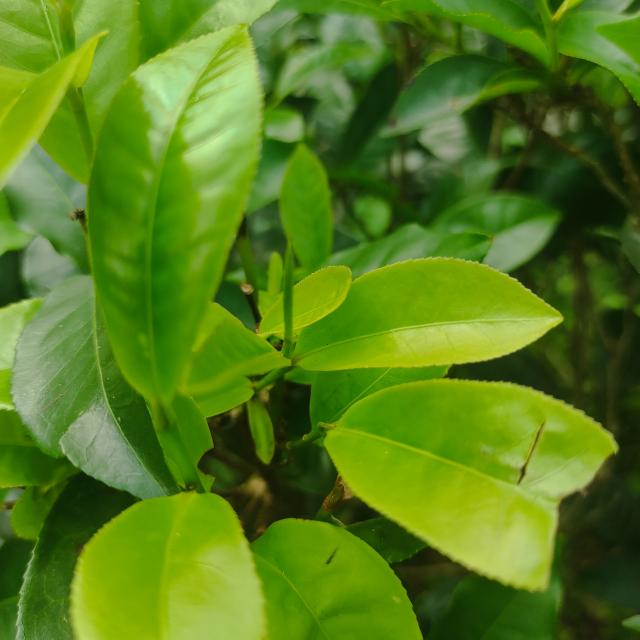unopened_leaf: (276, 230, 302, 359)
